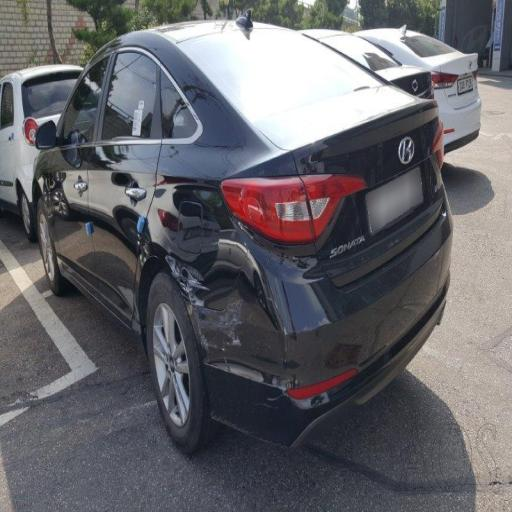scratch: (168, 234, 278, 373)
